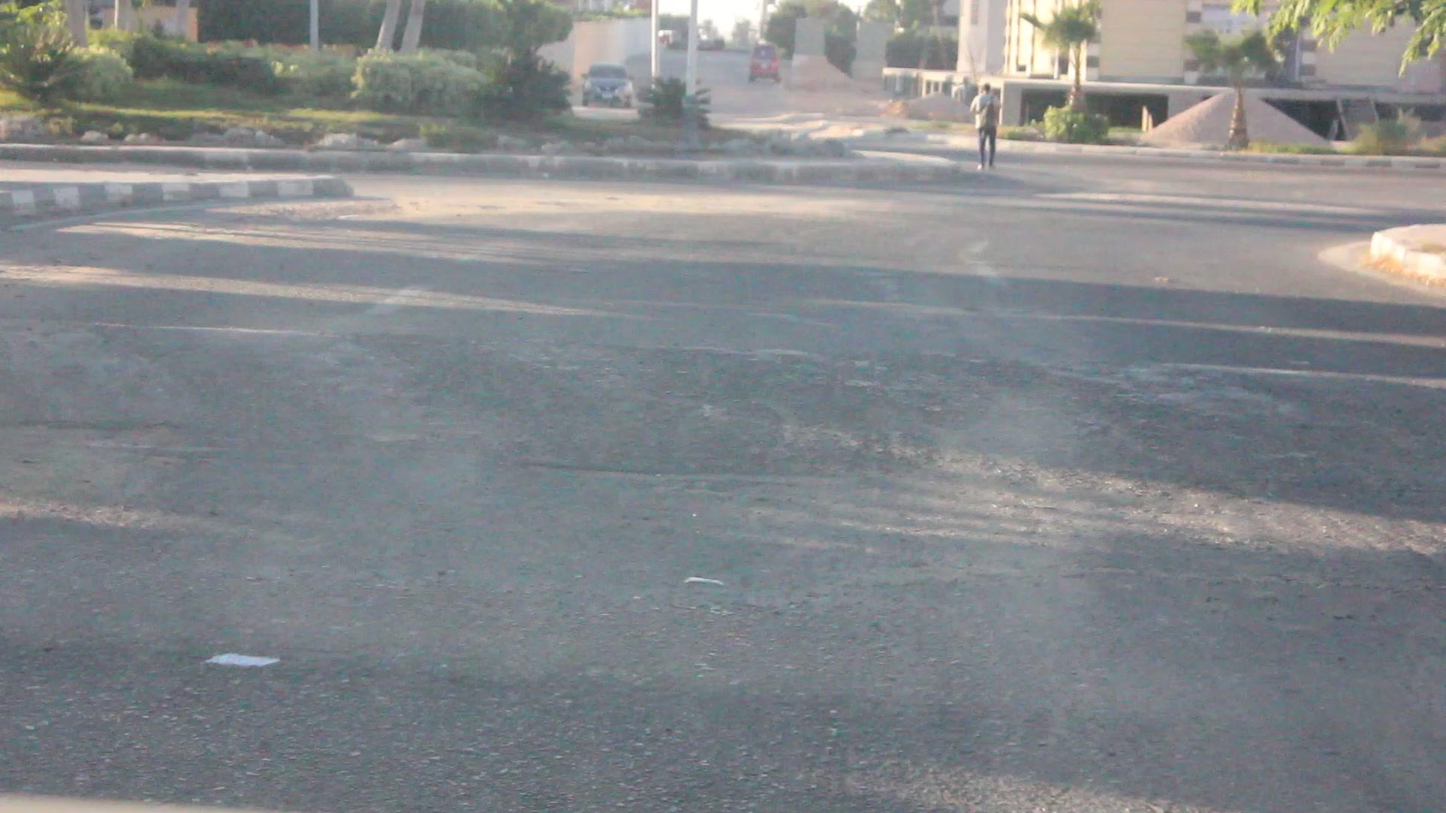Bump: (6, 324, 1446, 536)
